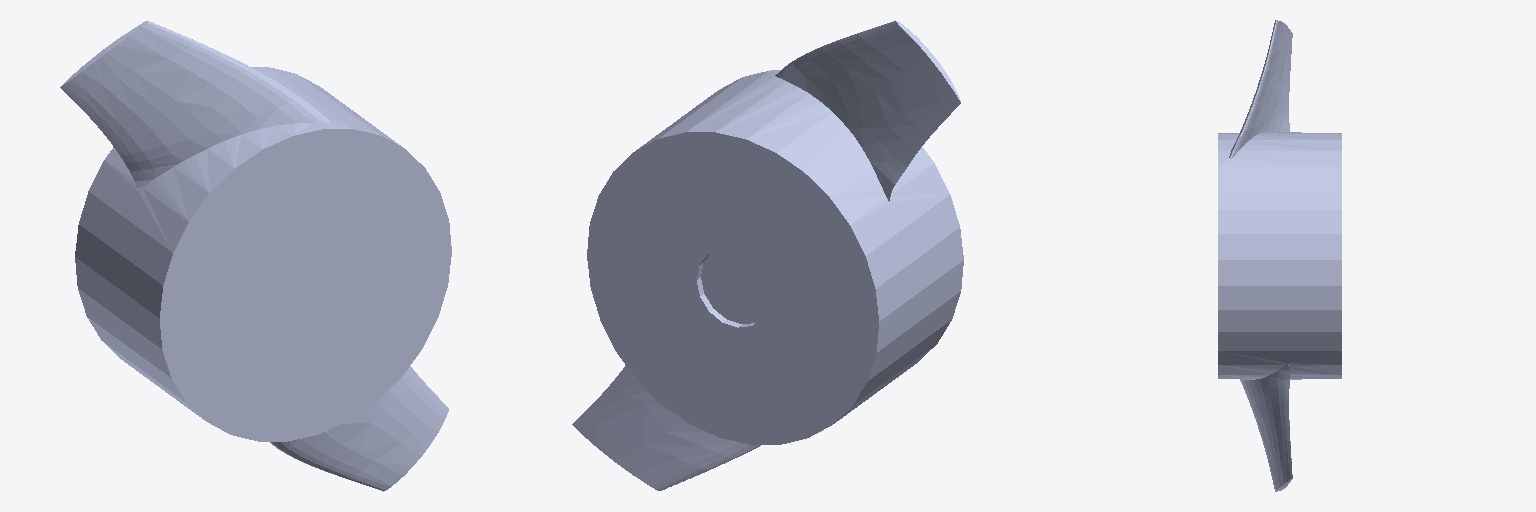
The robot description file, URDF, robot "T100-THRUSTER-PROP":
<?xml version="1.0" encoding="utf-8"?>
<!-- This URDF was automatically created by SolidWorks to URDF Exporter! Originally created by [author] ([email redacted]) 
     Commit Version: 1.5.1-0-g916b5db  Build Version: 1.5.7152.31018
     For more information, please see http://wiki.ros.org/sw_urdf_exporter -->
<robot
  name="T100-THRUSTER-PROP">
  <link
    name="T100-THRUSTER-PROP">
    <inertial>
      <origin
        xyz="3.9383E-05 -0.0049765 0.0092606"
        rpy="0 0 0" />
      <mass
        value="0.38044" />
      <inertia
        ixx="0.00039776"
        ixy="-1.3762E-07"
        ixz="-4.8314E-07"
        iyy="0.00040427"
        iyz="1.5933E-05"
        izz="0.00027739" />
    </inertial>
    <visual>
      <origin
        xyz="0 0 0"
        rpy="1.5707963267949 0 0" />
      <geometry>
        <mesh
          filename="package://T100-THRUSTER-PROP/meshes/T100-THRUSTER-PROP.STL" />
      </geometry>
      <material
        name="">
        <color
          rgba="0.79216 0.81961 0.93333 1" />
        <texture
          filename="package://T100-THRUSTER-PROP/textures/" />
      </material>
    </visual>
    <collision>
      <origin
        xyz="0 0 0"
        rpy="1.5707963267949 0 0" />
      <geometry>
        <mesh
          filename="package://T100-THRUSTER-PROP/meshes/T100-THRUSTER-PROP.STL" />
      </geometry>
    </collision>
  </link>
</robot>

--- Facts derived from the render (not from the file) ---
The picture shows the robot from 3 angles, left to right: view 1: azimuth 30°, elevation 25°; view 2: azimuth 150°, elevation 25°; view 3: azimuth 270°, elevation 25°; orthographic projection.
Model T100-THRUSTER-PROP with 1 links and 0 joints (none), rooted at T100-THRUSTER-PROP, posed all joints at 0.
Visible links, largest first — view 1: T100-THRUSTER-PROP; view 2: T100-THRUSTER-PROP; view 3: T100-THRUSTER-PROP.
Link boxes in pixels (box(x1,y1,x2,y2)): T100-THRUSTER-PROP: box(60, 21, 451, 491); T100-THRUSTER-PROP: box(572, 20, 963, 490); T100-THRUSTER-PROP: box(1218, 20, 1341, 491).
Bounding box of the posed robot: 0.0533 × 0.0201 × 0.0691 m (x, y, z).
Meshes: 1 distinct files referenced, 1 mesh visuals loaded (1 binary STL).